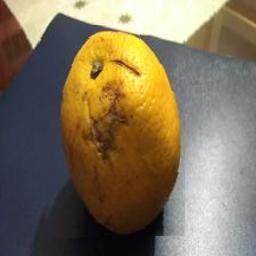Orange Semifresh: (38, 25, 185, 238)
